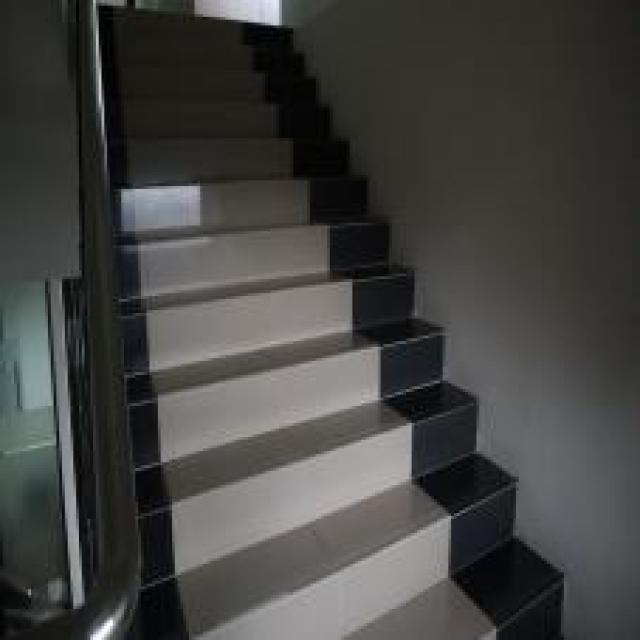upstair: (117, 92, 390, 447)
